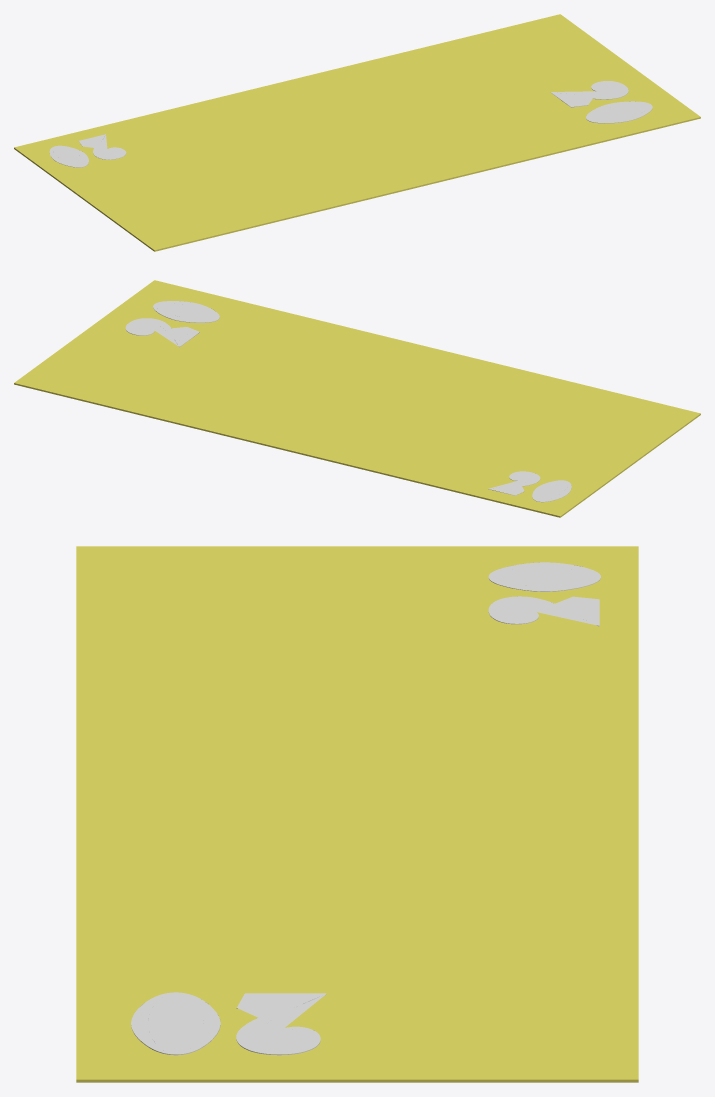
Rendered from Bente.fbx.
The picture shows the model from 3 angles, top to bottom: view 1: azimuth 30°, elevation 25°; view 2: azimuth 150°, elevation 25°; view 3: azimuth 270°, elevation 25°; orthographic projection. The views are drawn at different scales.
Visible parts, largest first — view 1: Bente, Bente Texts; view 2: Bente, Bente Texts; view 3: Bente, Bente Texts.
Part boxes in pixels (bbox=[...]): Bente: bbox=[14, 14, 700, 251]; Bente Texts: bbox=[49, 81, 652, 167]; Bente: bbox=[14, 280, 700, 517]; Bente Texts: bbox=[125, 301, 571, 502]; Bente: bbox=[76, 546, 638, 1082]; Bente Texts: bbox=[131, 562, 600, 1055].
Bounding box in the file's own units: 11.76 × 0.0449 × 5.24.
